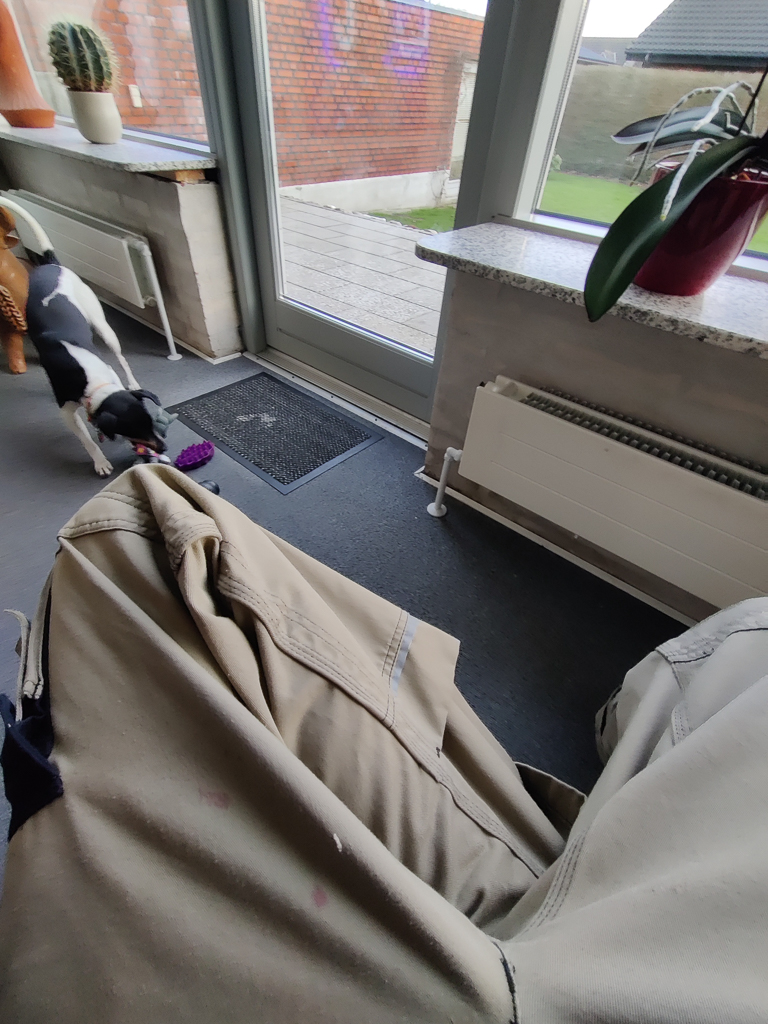Cattle: (0, 204, 65, 380)
Dog: (0, 194, 186, 482)
Humanoid: (0, 451, 768, 1024), (0, 0, 56, 116), (122, 406, 184, 472)
